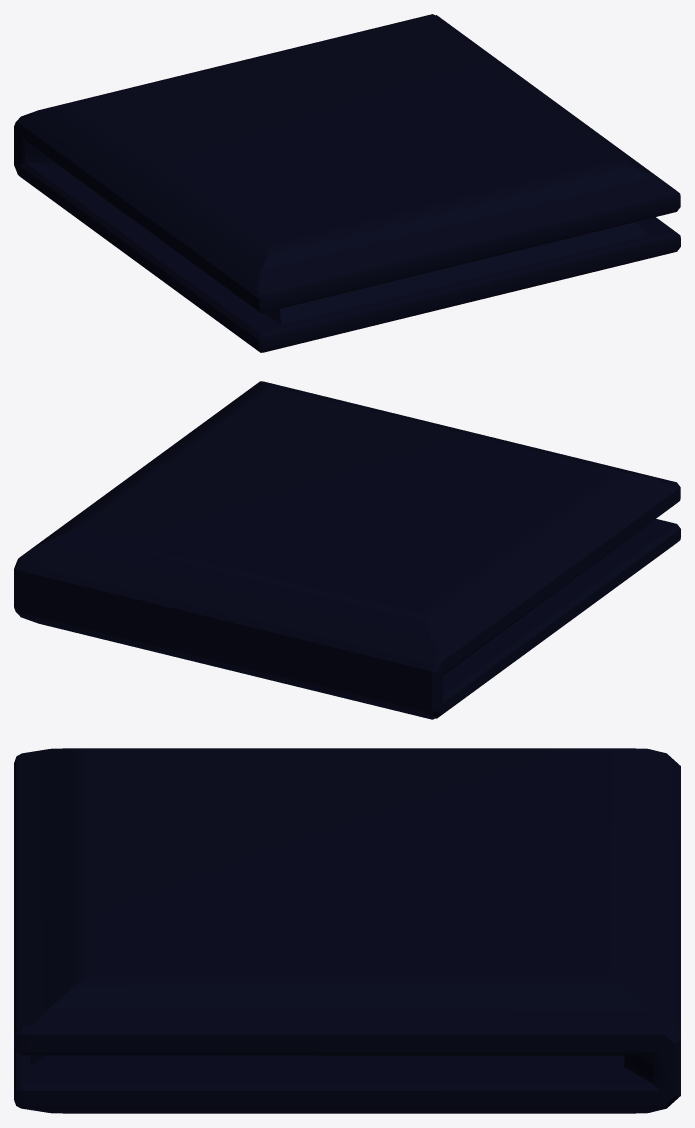
Rendered from Wallet_Text.fbx.
3 views of the same model, one above another, from view 1: azimuth 30°, elevation 25°; view 2: azimuth 150°, elevation 25°; view 3: azimuth 270°, elevation 25° (orthographic). The views are drawn at different scales.
Visible parts, largest first — view 1: Portefeuille; view 2: Portefeuille; view 3: Portefeuille.
Part boxes in pixels (x1,y1,x2,y2): Portefeuille: [14, 14, 680, 352]; Portefeuille: [14, 381, 680, 719]; Portefeuille: [14, 748, 680, 1113].
Size of the model in its own units: 12.51 by 2.93 by 12.67.
1 material, 1 textured.
